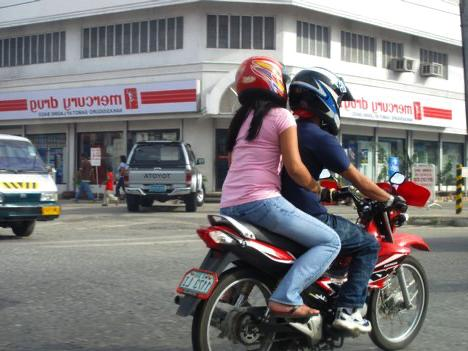With Helmet: (288, 63, 355, 127)
